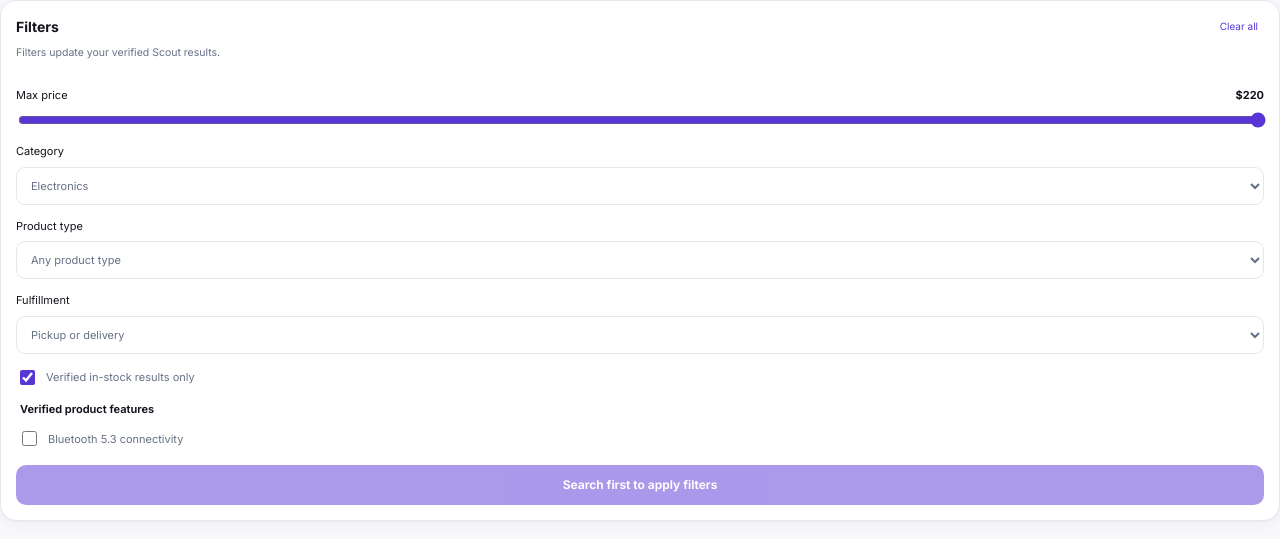
Test: ProductFilters › allows local clearing before a query but blocks applying filters
This screenshot has width=1280, height=539.
expect the button "Search first to apply filters" is disabled: met, box [16,465,1264,505]
What coordinates should you click on to do the following:
click the button "Clear all"
I would click on:
 (1239, 26)
Its box is [1214,18,1264,35].
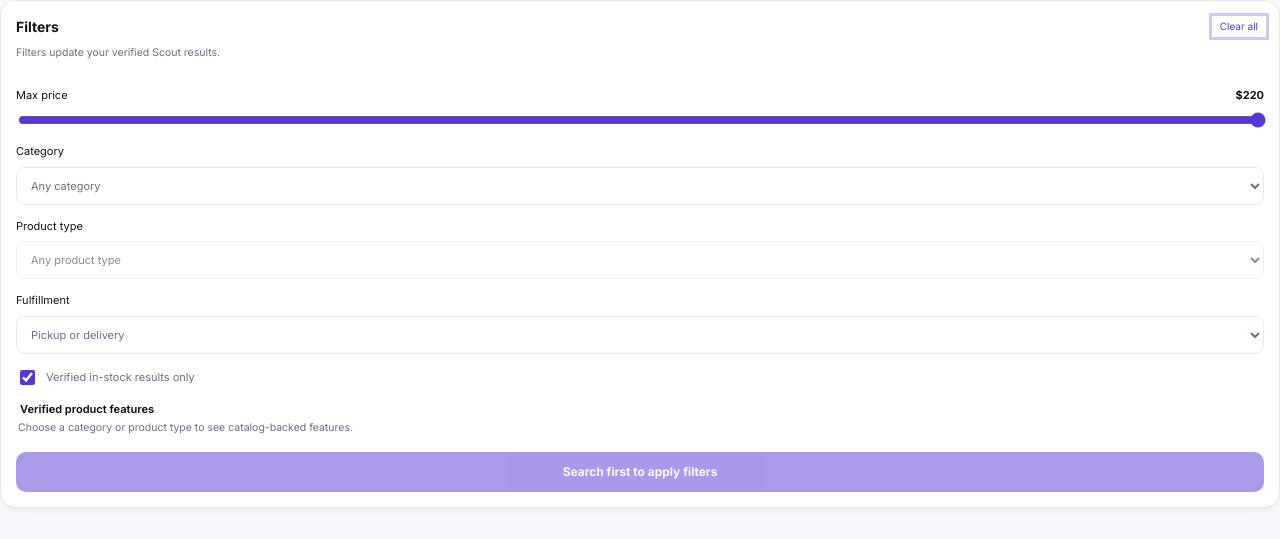
expect the dropdown labelled "Category" shows "Any category": met, box [16,167,1264,205]
